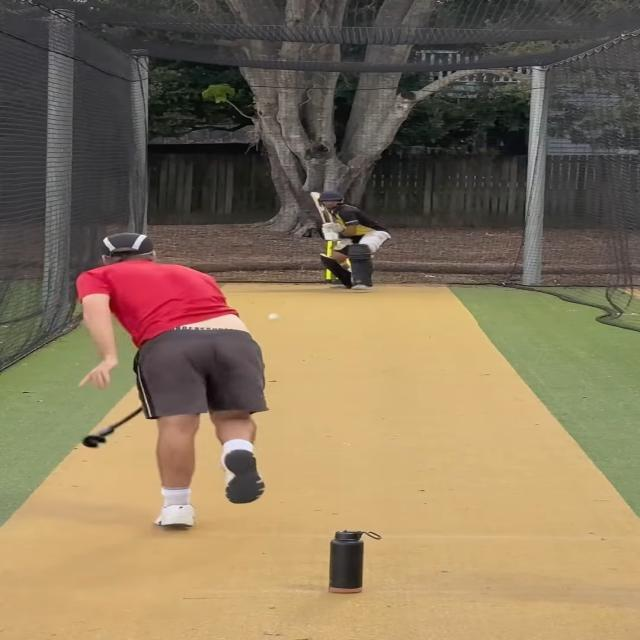Cricket ball: (266, 312, 280, 322)
